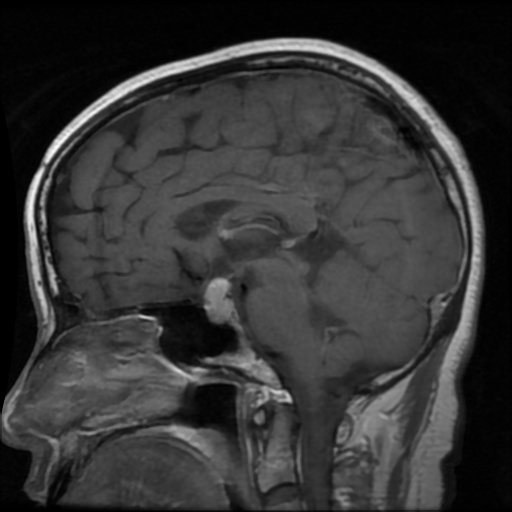pituitary: (204, 278, 234, 324)
